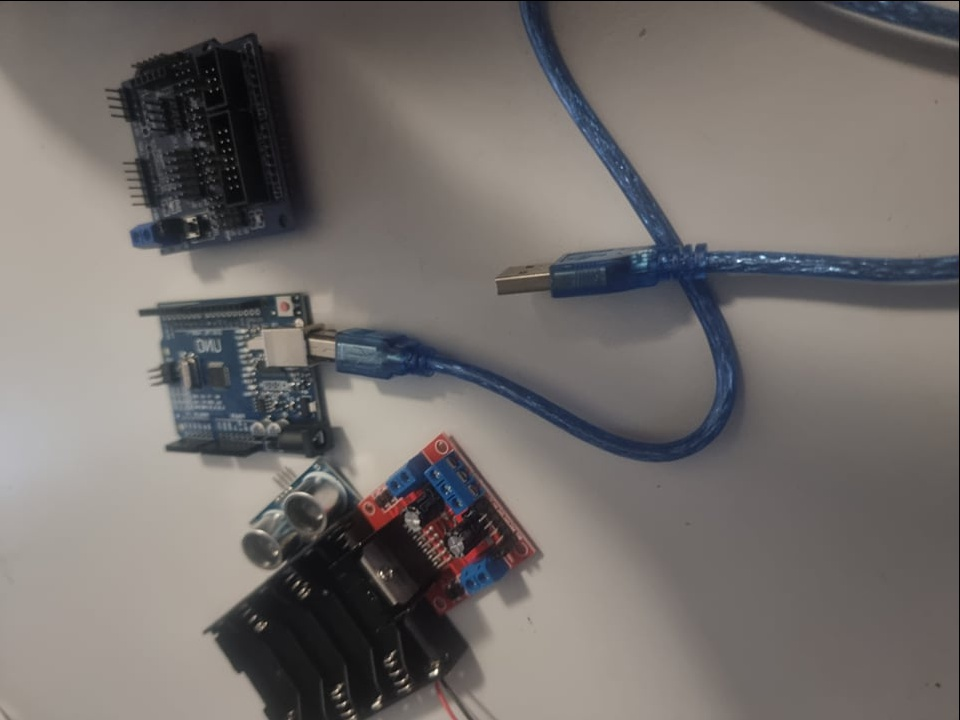5V EXPANSION: (99, 30, 306, 254)
MOTOR: (199, 542, 466, 717), (345, 429, 539, 614)
SENSOR: (242, 462, 342, 578)
UNO R3: (134, 289, 324, 471)
